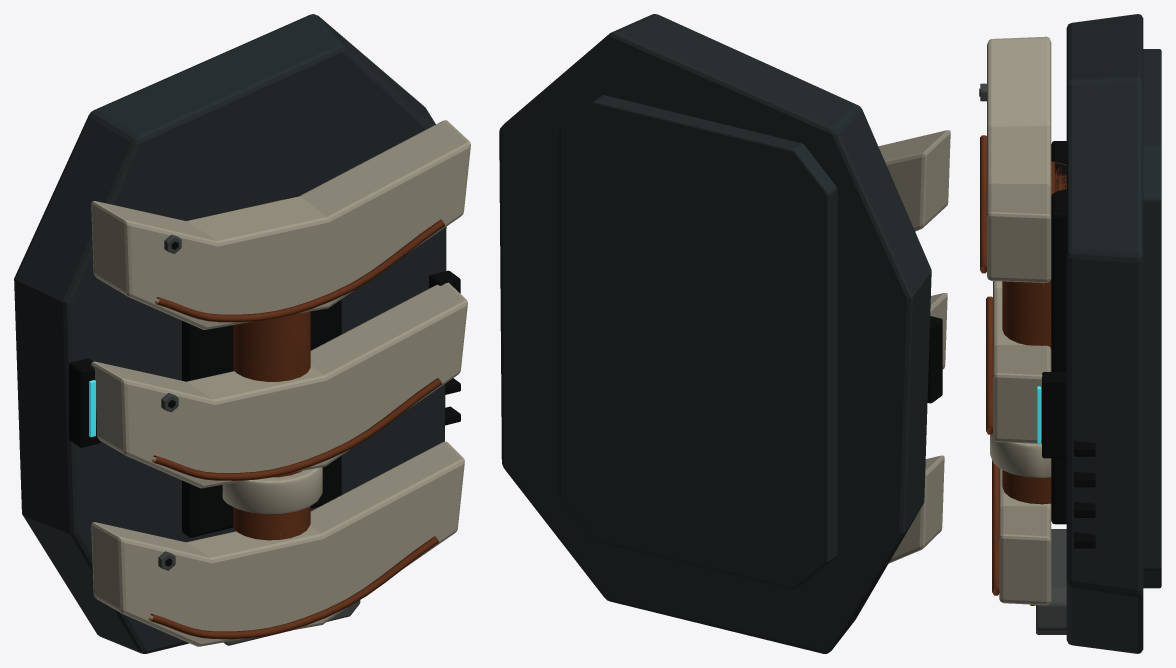
The model's file is counter.glb.
3 views of the same model, side by side, from view 1: azimuth 30°, elevation 25°; view 2: azimuth 150°, elevation 25°; view 3: azimuth 270°, elevation 25° (orthographic).
Visible parts, largest first — view 1: ivory, steel, copper, rubber, edge; view 2: steel, ivory, rubber; view 3: steel, ivory, rubber, copper, edge.
Part boxes in pixels (box(x1,y1,x2,y2)): ivory: box(91, 120, 470, 646); steel: box(14, 14, 446, 653); copper: box(148, 199, 444, 639); rubber: box(69, 195, 460, 566); edge: box(158, 234, 360, 645); steel: box(499, 14, 931, 653); ivory: box(878, 130, 950, 563); rubber: box(927, 316, 942, 403); steel: box(1066, 14, 1161, 653); ivory: box(987, 36, 1051, 605); rubber: box(979, 88, 1095, 548); copper: box(980, 135, 1066, 595); edge: box(980, 83, 1066, 634).
Bounding box in the file's own units: 0.1566 × 0.2064 × 0.0595.
Materials: 7 (6 with a texture image).
